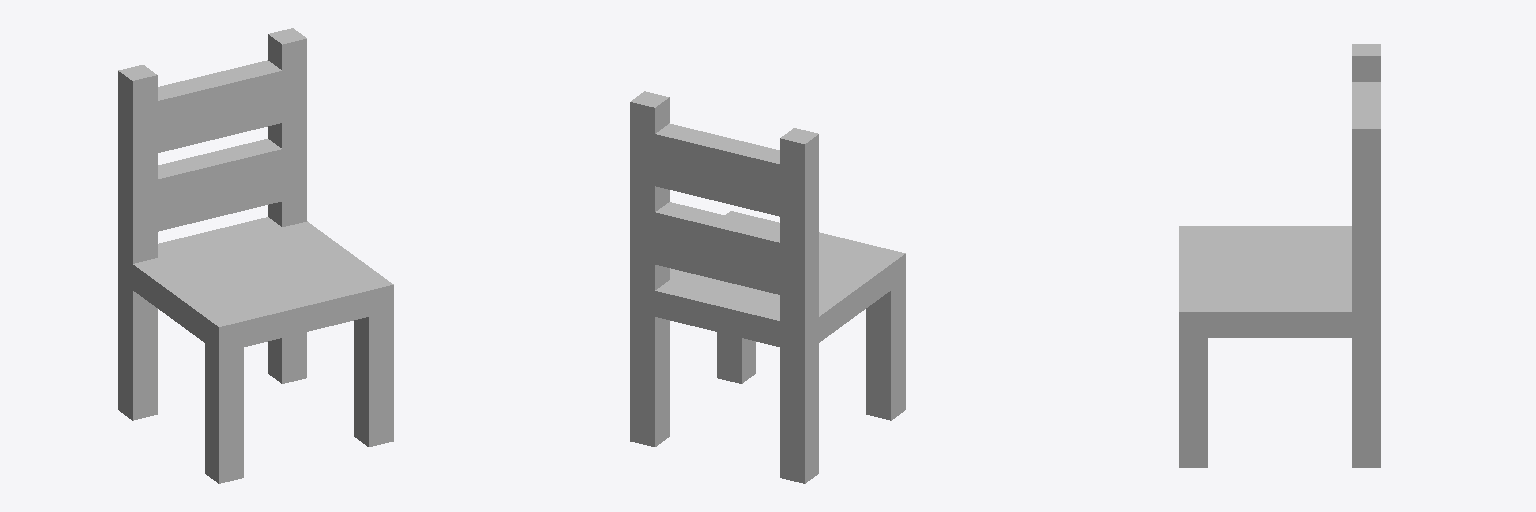
Rendered from WoodenChair2.obj.
The picture shows the model from 3 angles: view 1: azimuth 30°, elevation 25°; view 2: azimuth 150°, elevation 25°; view 3: azimuth 270°, elevation 25°; orthographic projection.
Parts seen in each view (by area): view 1: object 1; view 2: object 1; view 3: object 1.
Boxes of the visible parts, <box> form: object 1: <box>118,28,393,483</box>; object 1: <box>630,91,905,483</box>; object 1: <box>1179,44,1380,467</box>.
Size of the model in its own units: 0.7 by 1.3 by 0.7.